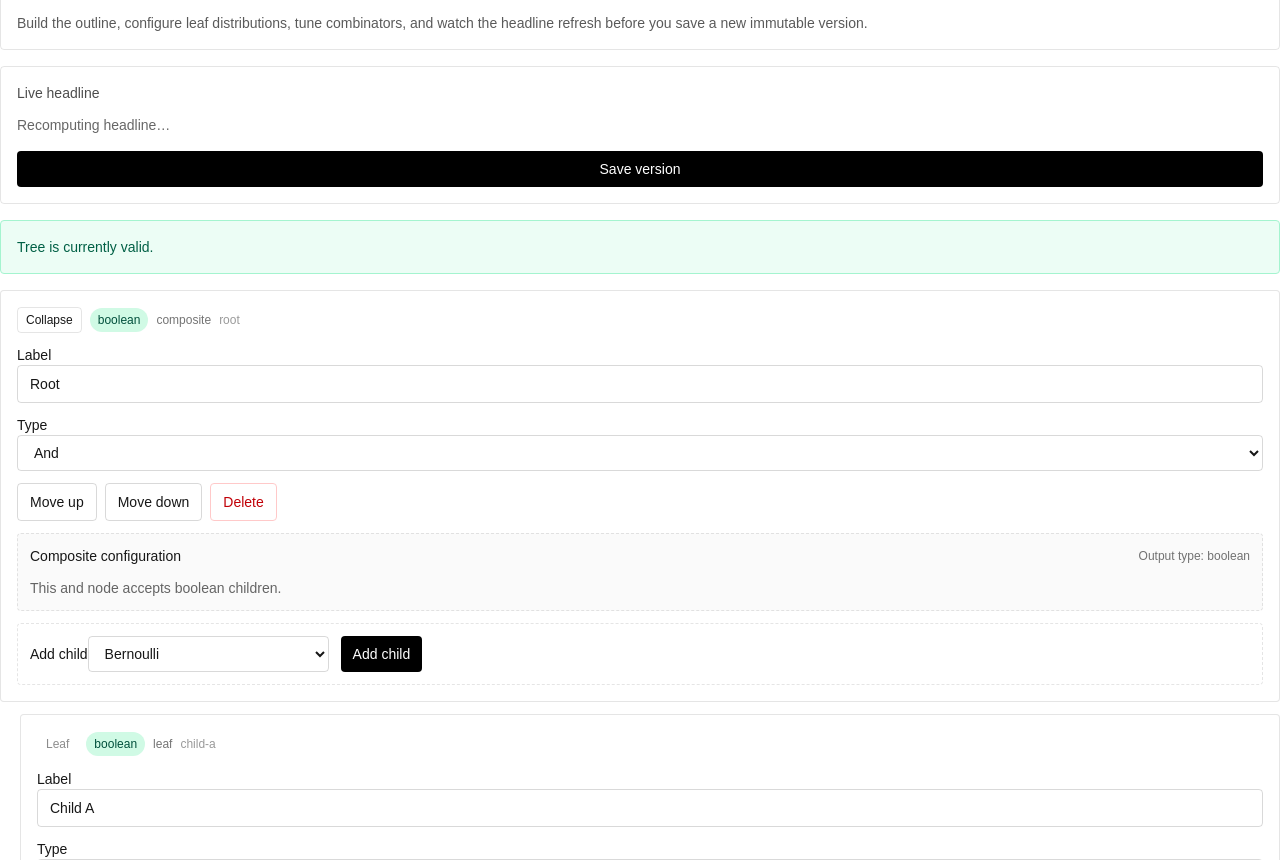
TreeEditorShell › adds a child to a composite node
Select "Or" in the dropdown named "Child type for root". click: (208, 654)
box: [88, 636, 329, 672]
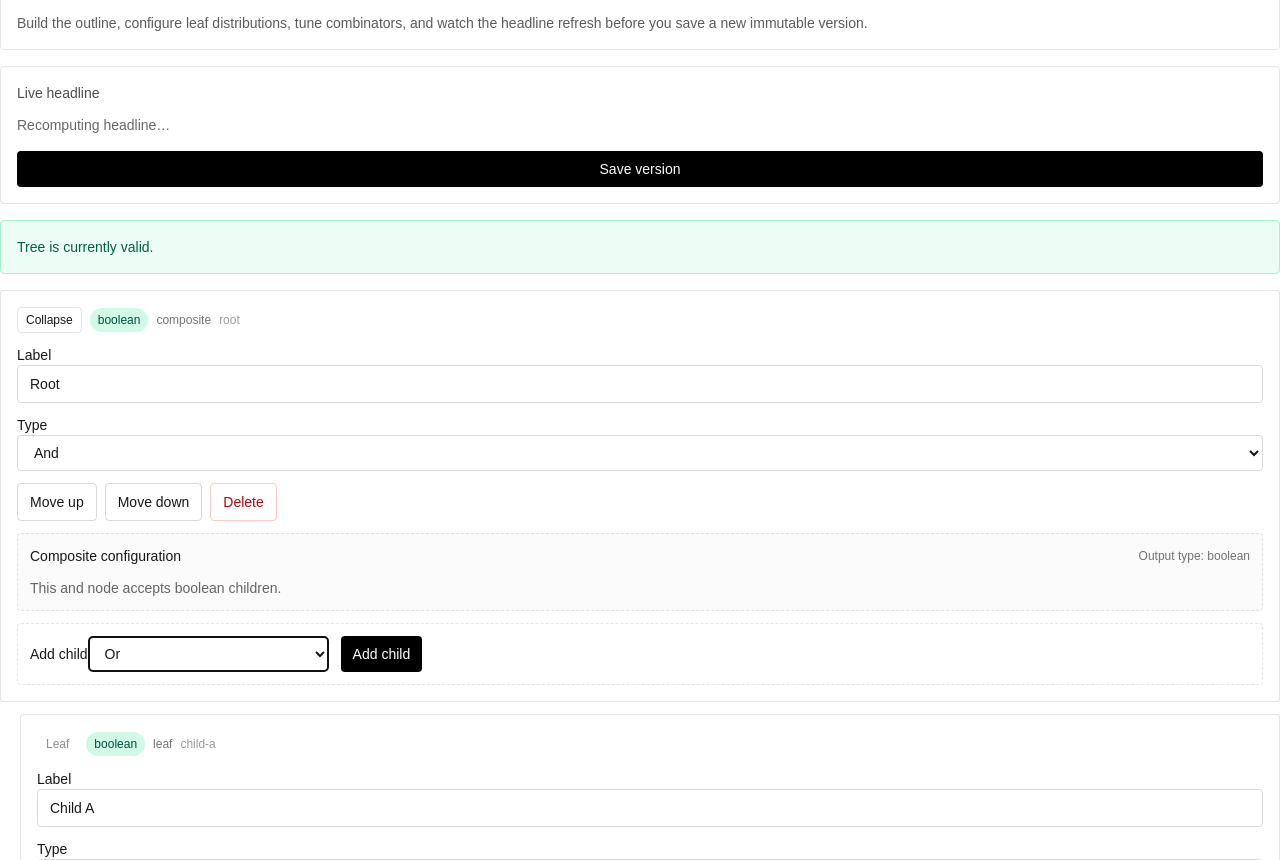
Click the button "Add child". click: (381, 654)
box: [341, 636, 422, 672]
(page scrolled)
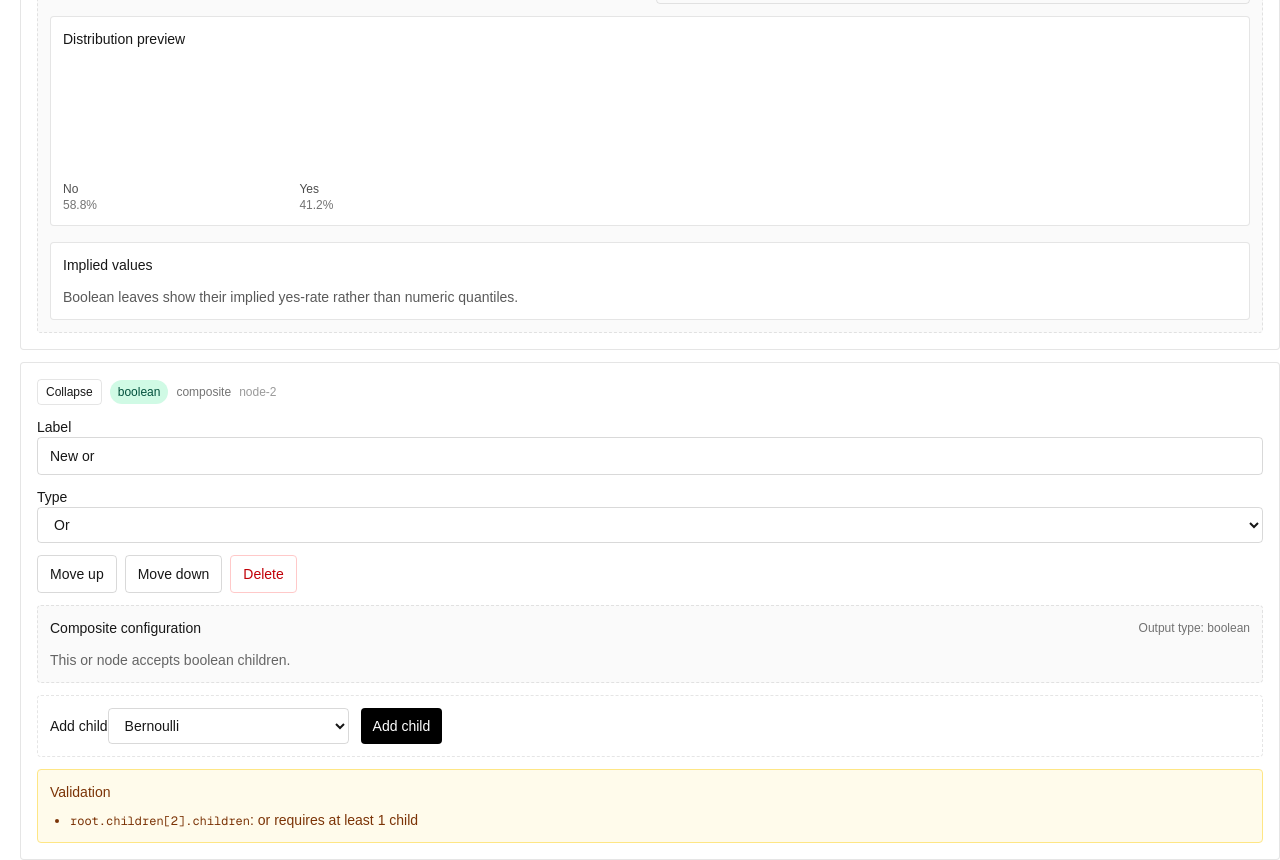
Now the field showing "New or" is shown, box [37, 437, 1263, 475]
